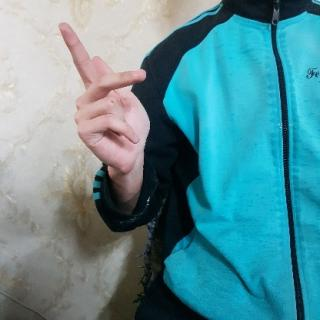DHAA: (55, 14, 172, 188)
